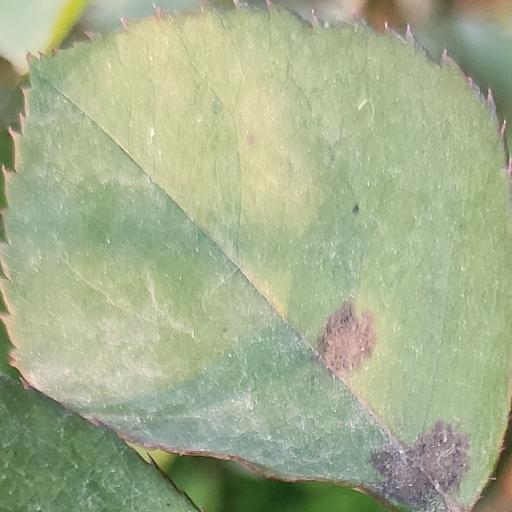black_spot: (0, 8, 511, 511)
